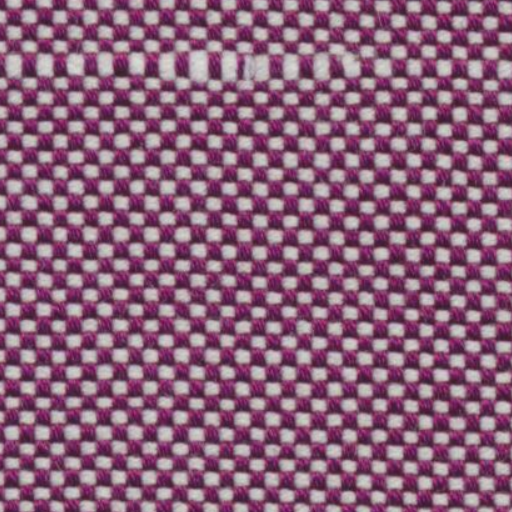DaiSha: (12, 38, 476, 102)
